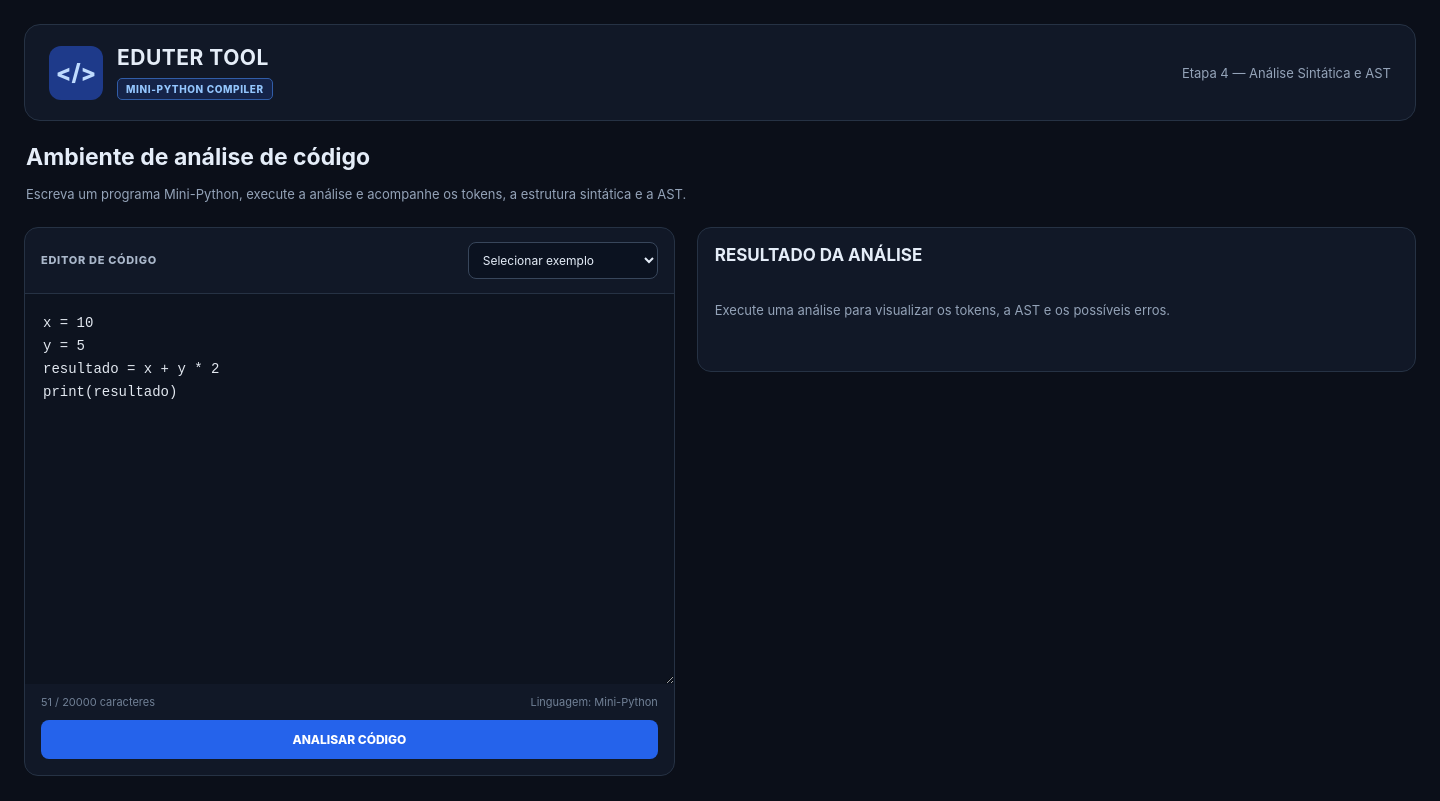
diferencia erro léxico de erro sintático
This screenshot has width=1440, height=801.
Click the button "ANALISAR CÓDIGO". click: (349, 739)
box: [41,720,658,759]
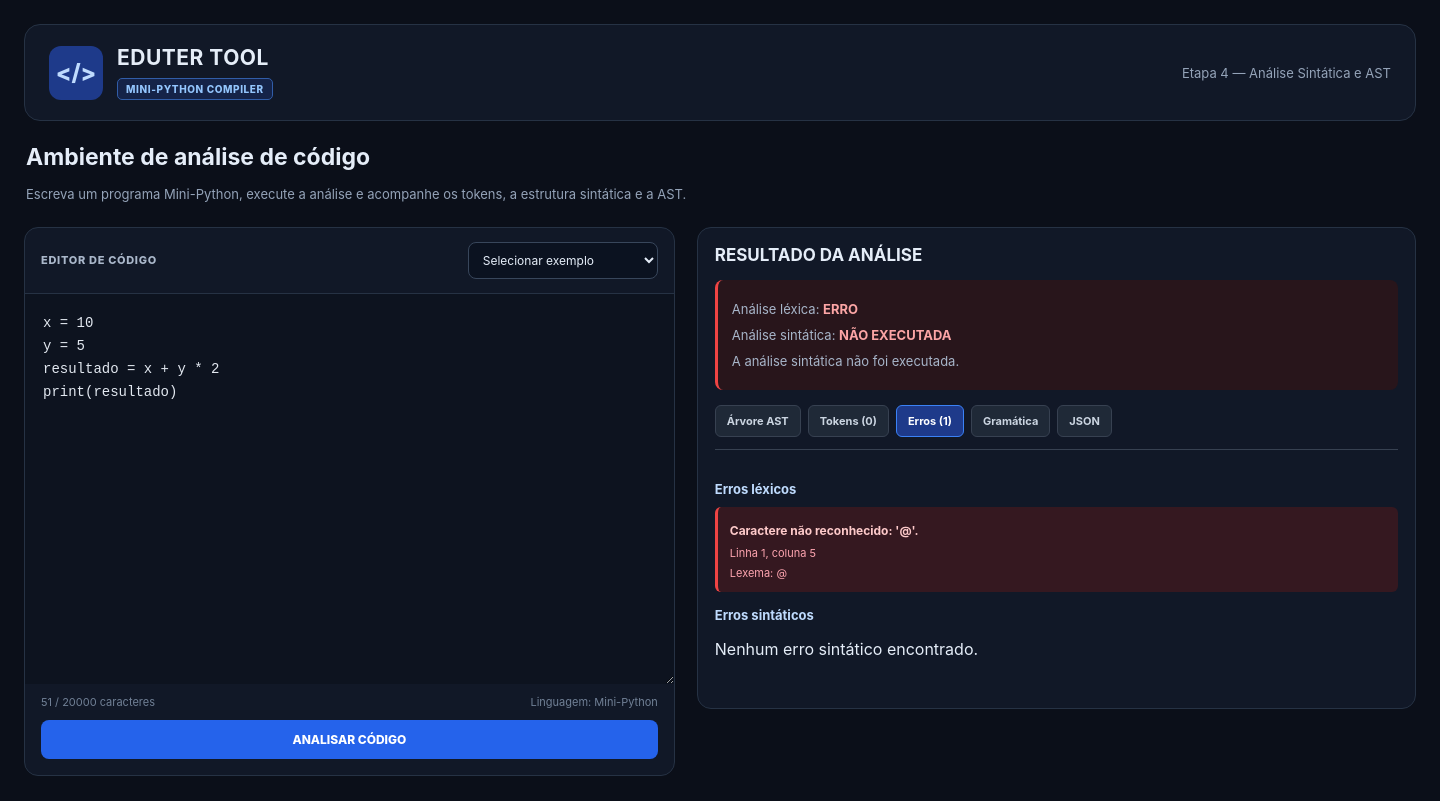
Expected: the text "Caractere não reconhecido: '@'." is shown, [730,523,919,538]
Expected: the text "Análise sintática: NÃO EXECUTADA" is shown, [732,327,952,343]
Expected: the text "NÃO EXECUTADA" is shown, [839,327,952,343]
